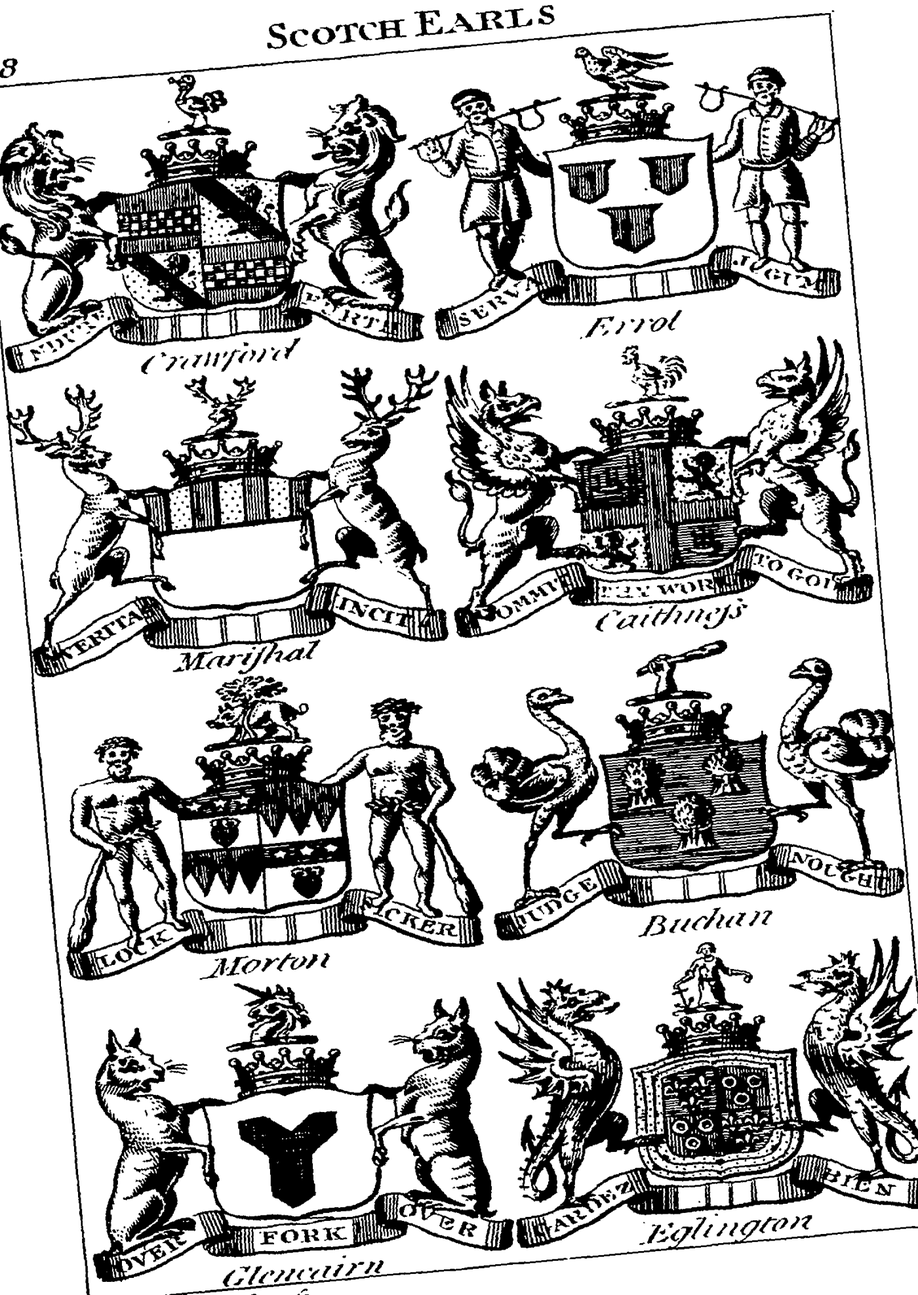coat_of_arms: (475, 644, 918, 941), (6, 372, 449, 666), (39, 677, 480, 972), (68, 981, 514, 1270), (416, 51, 852, 342), (439, 344, 875, 631), (492, 956, 918, 1240), (2, 92, 424, 368)
